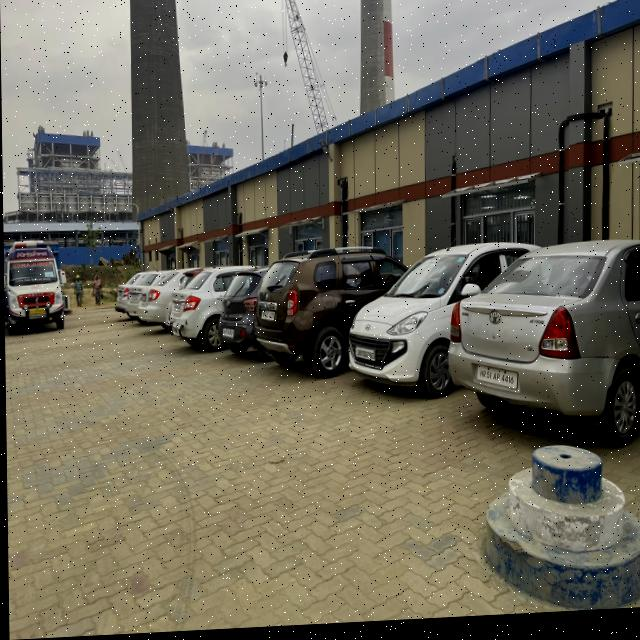car: (444, 228, 640, 475), (346, 233, 486, 412), (254, 246, 392, 380), (167, 264, 224, 358), (215, 259, 258, 362)
